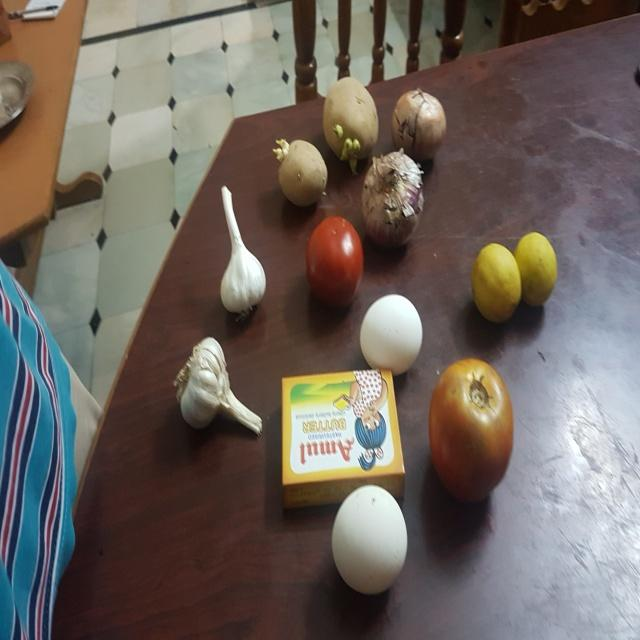butter: (276, 364, 409, 496)
eggs: (332, 478, 407, 599), (355, 289, 428, 376)
garlic: (163, 336, 272, 441), (212, 180, 279, 327)
lemon: (503, 228, 567, 312), (466, 239, 524, 326)
onion: (353, 141, 437, 253), (388, 76, 455, 166)
potato: (320, 72, 381, 166), (271, 140, 335, 212)
tomato: (423, 355, 529, 503), (291, 209, 373, 315)
